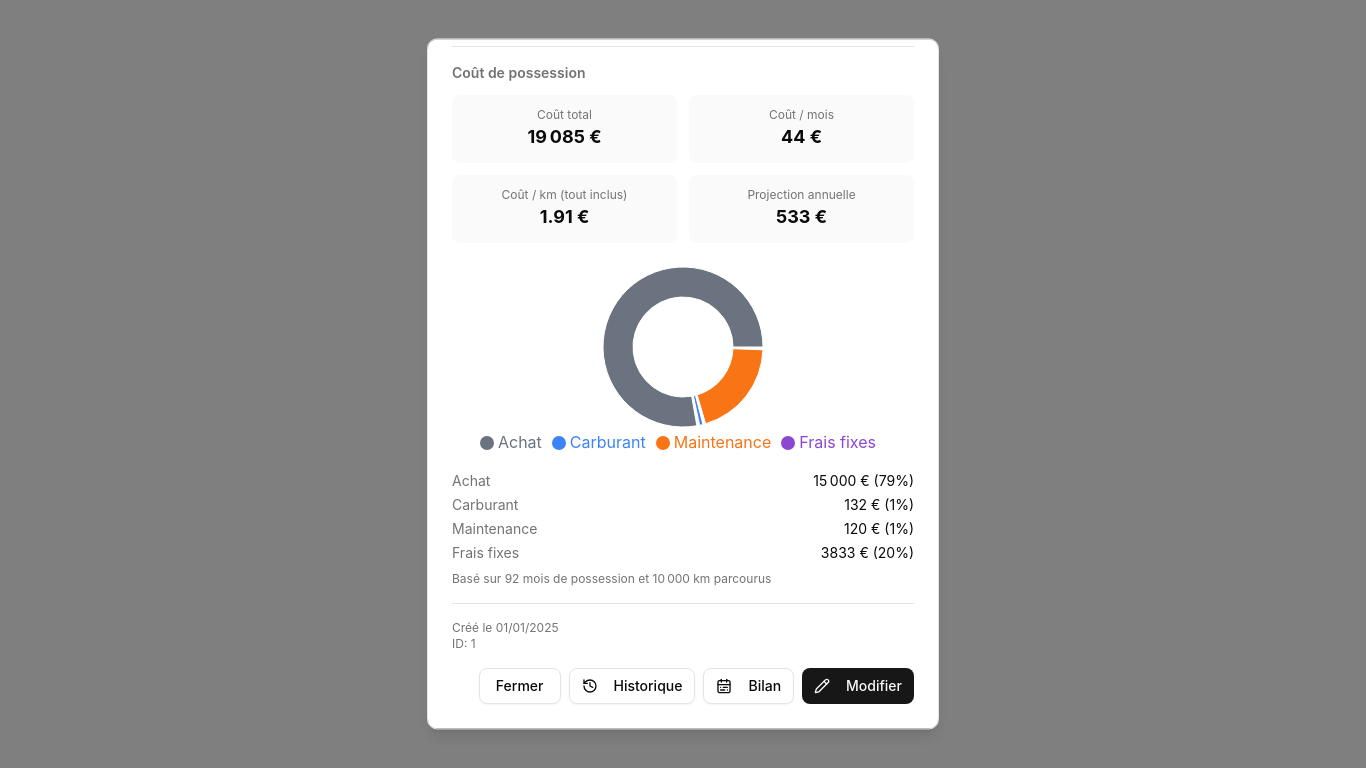
Test case: VehicleDetailsDialog › opens the timeline sheet from the Historique button
This screenshot has width=1366, height=768.
(page scrolled)
Click the button "Historique". click: [632, 686]
box: x1=568 y1=668 x2=695 y2=704
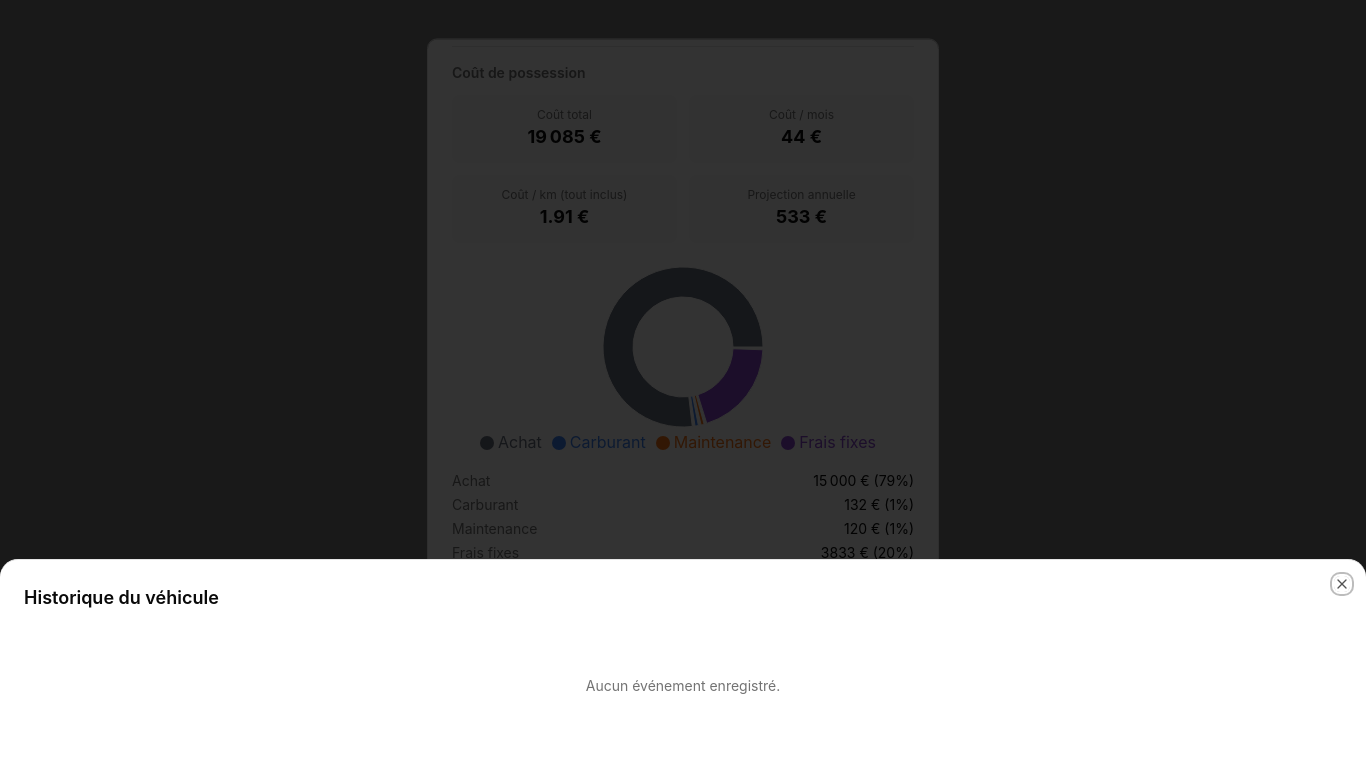
Check: the heading "Historique du véhicule" is shown, box x1=24 y1=587 x2=219 y2=608
Check: the text "Aucun événement enregistré." is shown, box x1=586 y1=677 x2=780 y2=694
